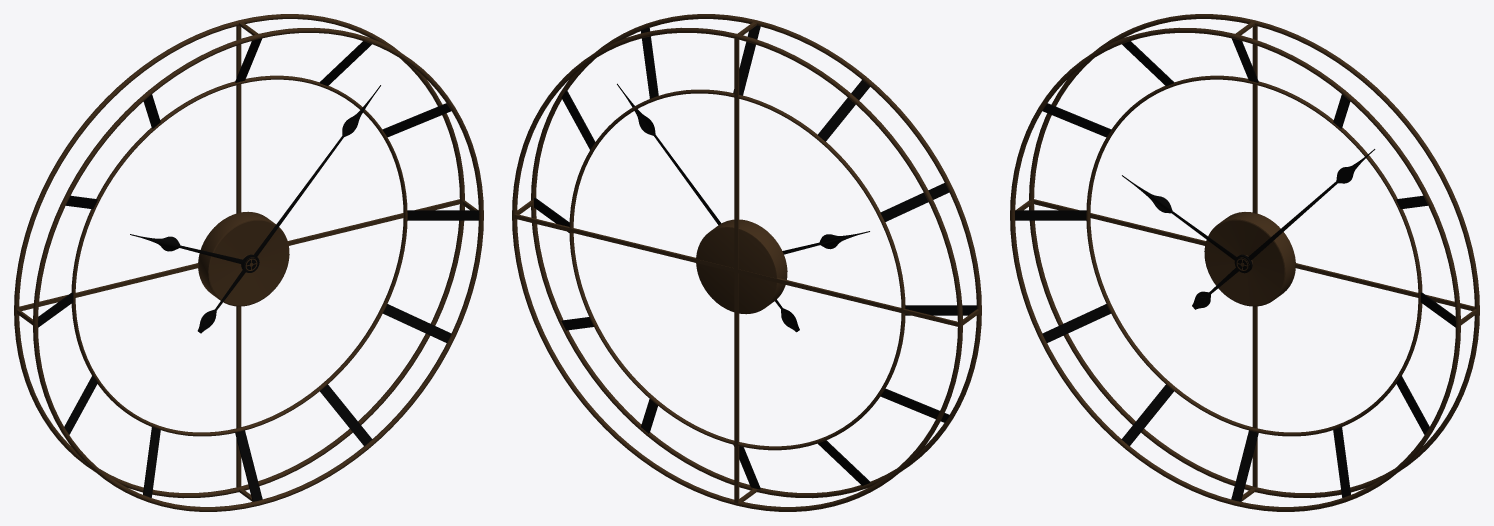
Rendered from Clock.FBX.
3 views of the same model, side by side, from view 1: azimuth 30°, elevation 25°; view 2: azimuth 150°, elevation 25°; view 3: azimuth 330°, elevation 25° (orthographic).
Visible parts, largest first — view 1: Box004, Circle004, Group001; view 2: Box004, Circle004; view 3: Box004, Circle004, Group001.
Part boxes in pixels (bbox=[...]): Box004: bbox=[14, 14, 483, 511]; Circle004: bbox=[197, 85, 380, 333]; Group001: bbox=[130, 234, 259, 272]; Box004: bbox=[512, 14, 981, 511]; Circle004: bbox=[617, 83, 799, 332]; Box004: bbox=[1010, 14, 1479, 511]; Circle004: bbox=[1192, 149, 1375, 309]; Group001: bbox=[1122, 175, 1251, 273].
Size of the model in its own units: 606 by 606 by 50.03.
